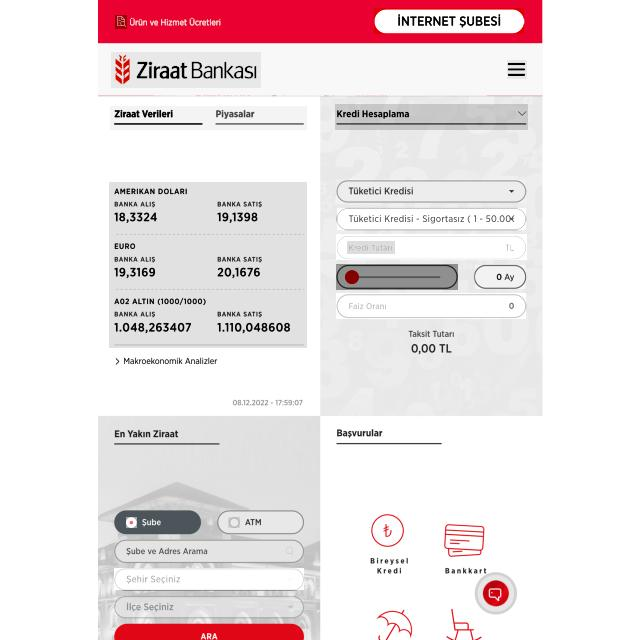CheckBox: (374, 8, 524, 34), (110, 354, 218, 369), (228, 517, 240, 528), (126, 517, 137, 528)
CheckedTextView: (336, 234, 527, 260), (336, 293, 526, 319), (114, 539, 304, 563), (337, 208, 526, 230), (475, 265, 526, 289)
QR code: (109, 182, 307, 348)
alert: (335, 104, 528, 130), (336, 179, 526, 203), (114, 568, 304, 590), (114, 596, 304, 618)
bag: (98, 0, 543, 96)
carousel: (115, 15, 127, 29)
date picker: (111, 52, 261, 88)
decoration: (507, 60, 527, 79)
footer: (347, 241, 395, 254)
hero image: (336, 264, 458, 290)
icon: (110, 106, 307, 130)
